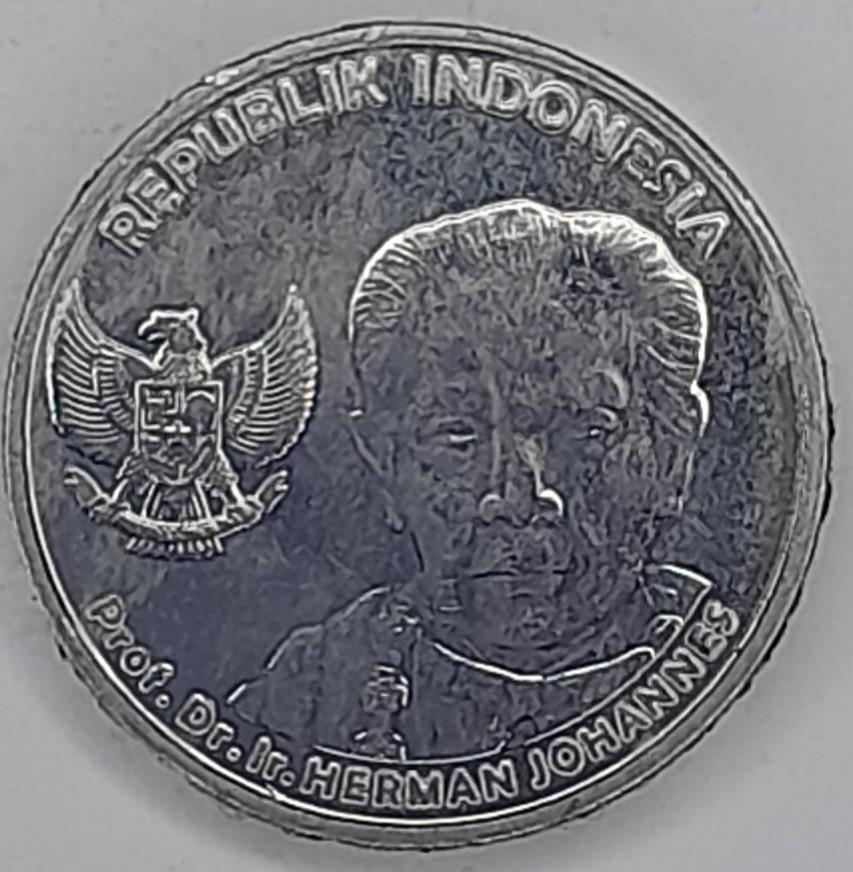coin_100_e2016: (0, 15, 840, 854)
